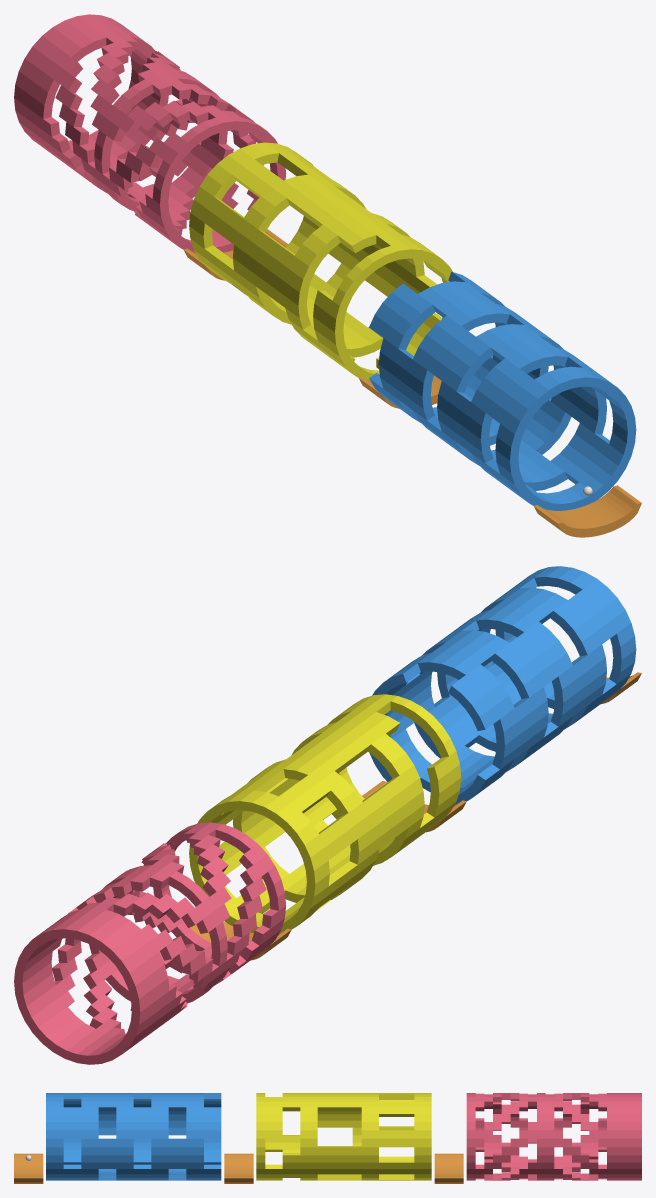
The model's file is RollingTunnel.fbx.
3 renders of one model, top to bottom at view 1: azimuth 30°, elevation 25°; view 2: azimuth 150°, elevation 25°; view 3: azimuth 270°, elevation 25°, orthographic. The views are drawn at different scales.
Parts seen in each view (by area): view 1: Cylinder, Cylinder.002, Cylinder.001, Cube; view 2: Cylinder.002, Cylinder, Cylinder.001; view 3: Cylinder, Cylinder.002, Cylinder.001, Cube.001, Cube.002, Cube.
Boxes of the visible parts, <box> form: Cylinder: <box>369,271,636,510</box>; Cylinder.002: <box>14,14,286,252</box>; Cylinder.001: <box>189,142,452,380</box>; Cube: <box>533,485,641,537</box>; Cylinder.002: <box>14,822,286,1064</box>; Cylinder: <box>369,566,636,804</box>; Cylinder.001: <box>189,694,461,933</box>; Cylinder: <box>46,1093,221,1180</box>; Cylinder.002: <box>466,1093,641,1180</box>; Cylinder.001: <box>256,1093,431,1180</box>; Cube.001: <box>224,1153,253,1183</box>; Cube.002: <box>434,1153,463,1183</box>; Cube: <box>14,1153,43,1183</box>.
Size of the model in its own units: 3000 by 3100 by 21500.
